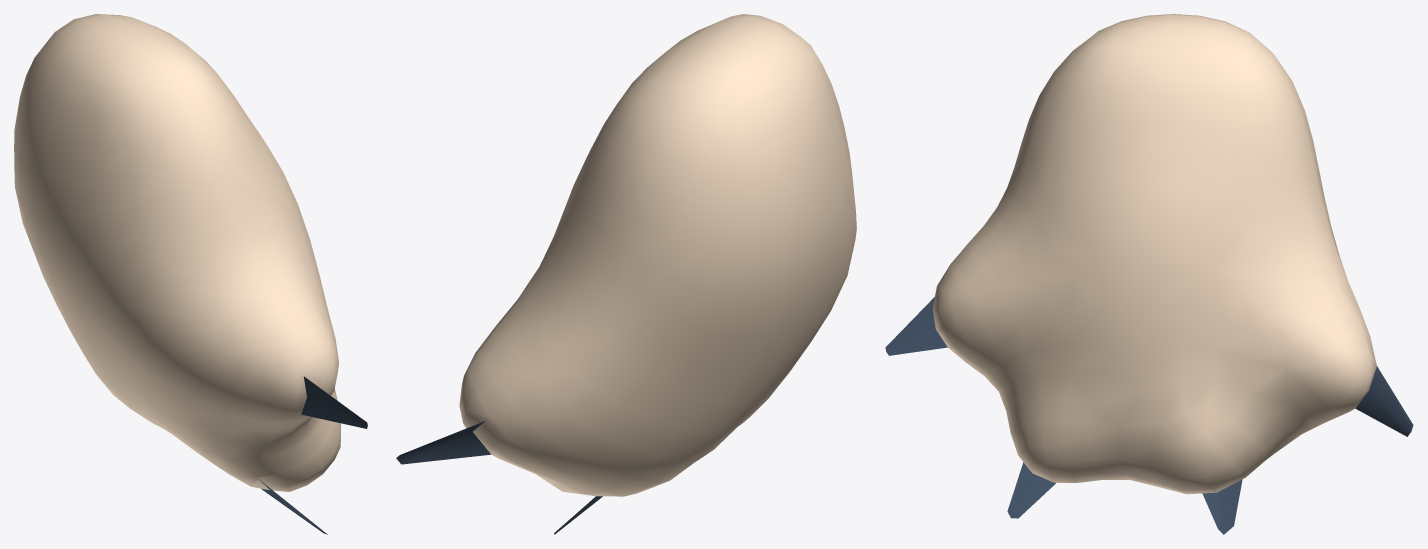
File: Gloves_Paw.fbx
3 renders of one model, left to right at view 1: azimuth 30°, elevation 25°; view 2: azimuth 150°, elevation 25°; view 3: azimuth 270°, elevation 25°, orthographic. The views are drawn at different scales.
Visible parts, largest first — view 1: Gloves_Paw.001; view 2: Gloves_Paw.001; view 3: Gloves_Paw.001.
Boxes of the visible parts, x1=… form: Gloves_Paw.001: x1=14, y1=14, x2=367, y2=534; Gloves_Paw.001: x1=396, y1=14, x2=856, y2=534; Gloves_Paw.001: x1=885, y1=14, x2=1413, y2=534.
Size of the model in its own units: 20.22 by 34.56 by 36.78.
